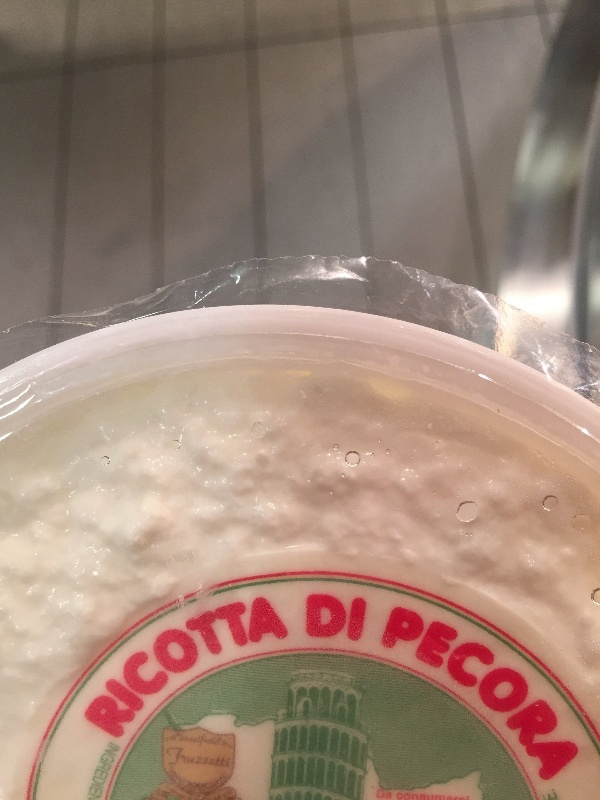text: (417, 522, 432, 794), (433, 522, 448, 794), (449, 522, 464, 794), (465, 522, 480, 794), (481, 522, 496, 794), (497, 522, 512, 794), (513, 522, 528, 794), (529, 522, 544, 794), (545, 522, 560, 794), (561, 522, 576, 794), (81, 550, 96, 756), (97, 550, 112, 756), (113, 550, 128, 756), (129, 550, 144, 756), (145, 550, 160, 756), (161, 550, 176, 756), (177, 550, 192, 756), (193, 550, 208, 756), (209, 550, 224, 756), (225, 550, 240, 756), (241, 550, 256, 756), (257, 550, 272, 756), (273, 550, 288, 756), (67, 550, 80, 756), (577, 522, 582, 794), (412, 522, 416, 794), (305, 586, 320, 647), (321, 586, 336, 647), (337, 586, 352, 647), (353, 586, 368, 647), (113, 736, 123, 799), (104, 736, 112, 799), (289, 550, 290, 756)
